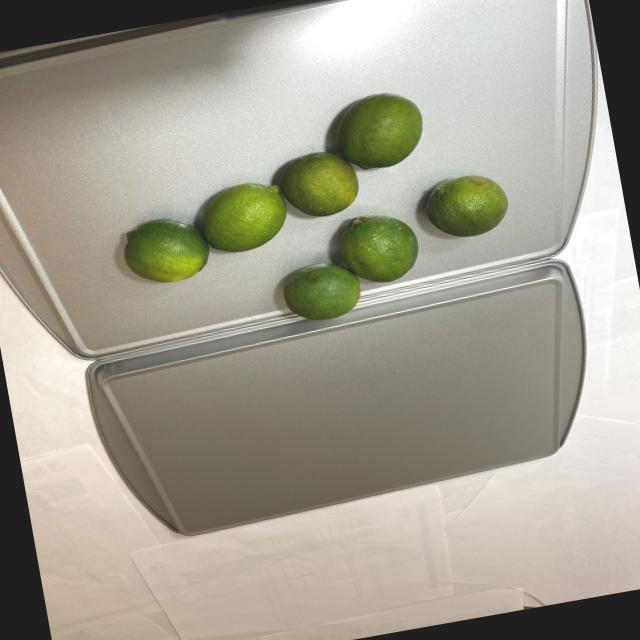lemon: (97, 74, 520, 354)
